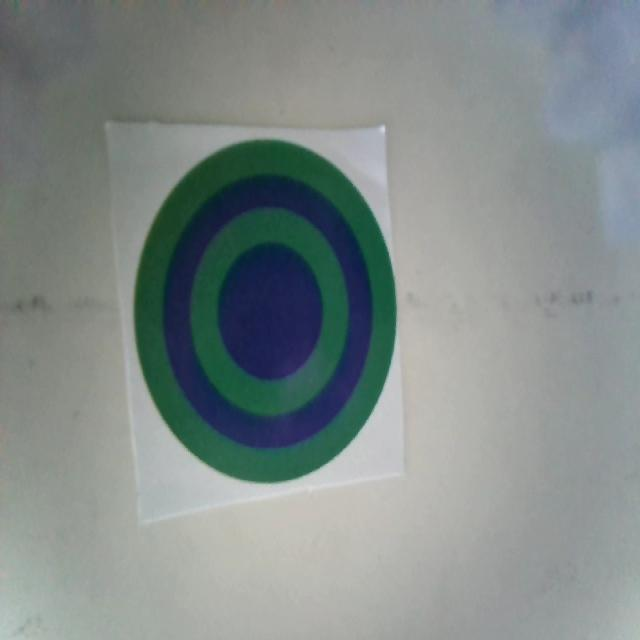cogn: (132, 139, 397, 487)
